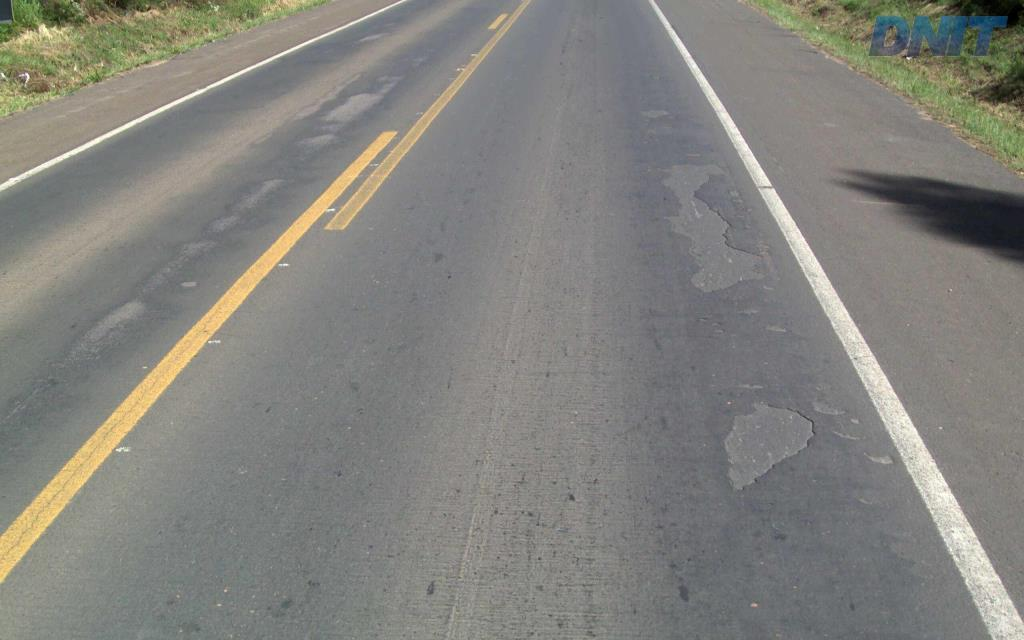pothole: (641, 154, 783, 299), (709, 392, 854, 496), (633, 99, 672, 128), (860, 450, 897, 470), (763, 321, 803, 334), (833, 427, 864, 442)
